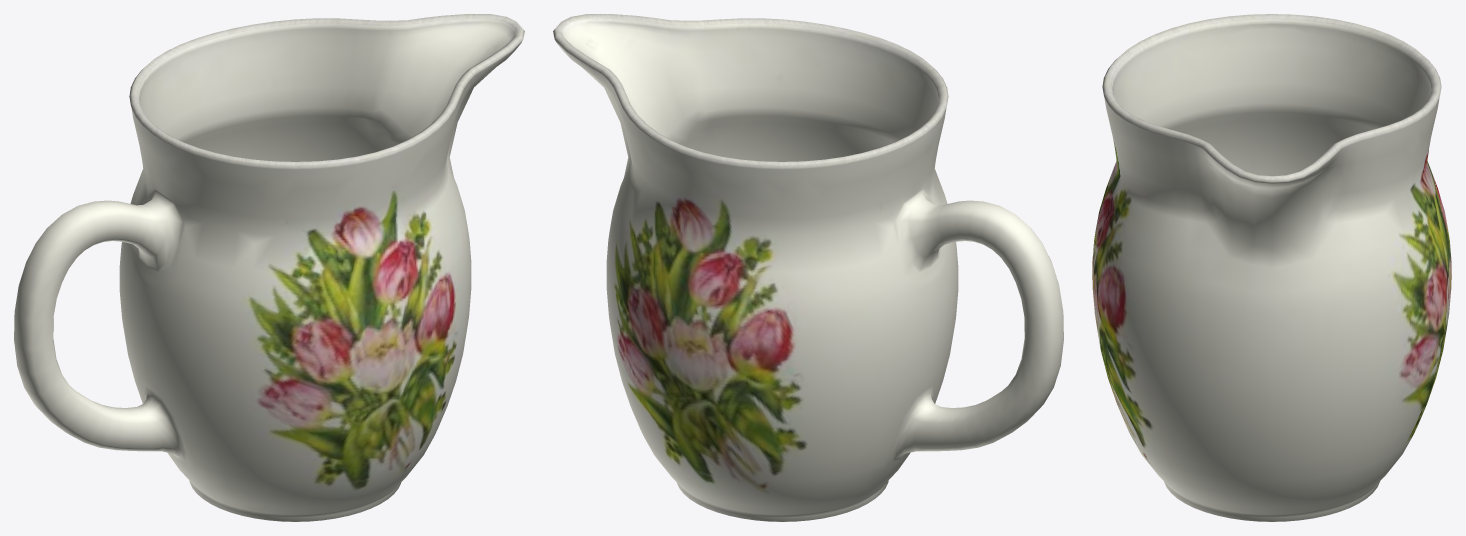
File: jug_01.glb
3 views of the same model, side by side, from view 1: azimuth 30°, elevation 25°; view 2: azimuth 150°, elevation 25°; view 3: azimuth 270°, elevation 25° (orthographic). The views are drawn at different scales.
Visible parts, largest first — view 1: jug_01; view 2: jug_01; view 3: jug_01.
Boxes of the visible parts, <box> form: jug_01: <box>14,14,524,521</box>; jug_01: <box>553,14,1063,521</box>; jug_01: <box>1092,14,1451,521</box>.
Bounding box in the file's own units: 0.2753 × 0.2113 × 0.1675.
1 material, 1 textured.
